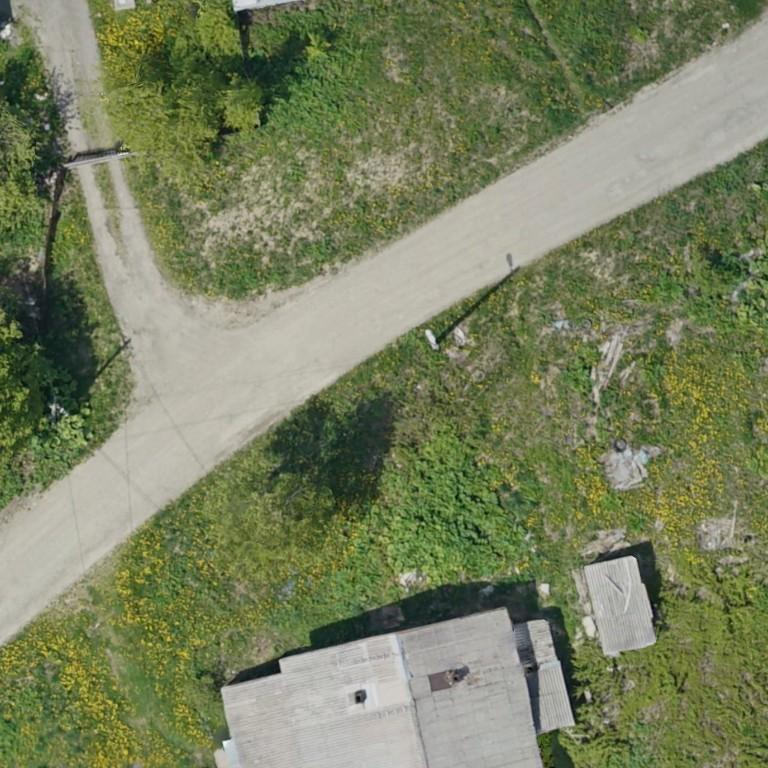hogweed: (371, 432, 521, 577)
